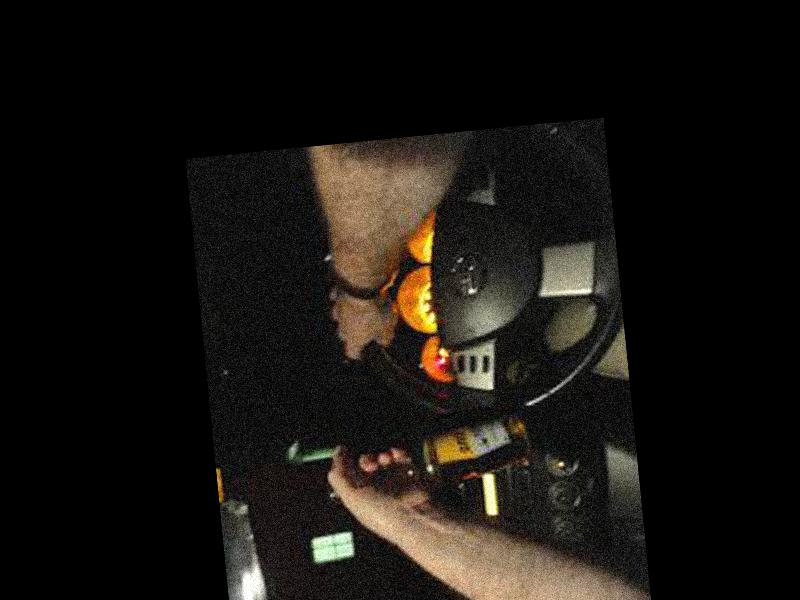Beer: (323, 406, 531, 505)
